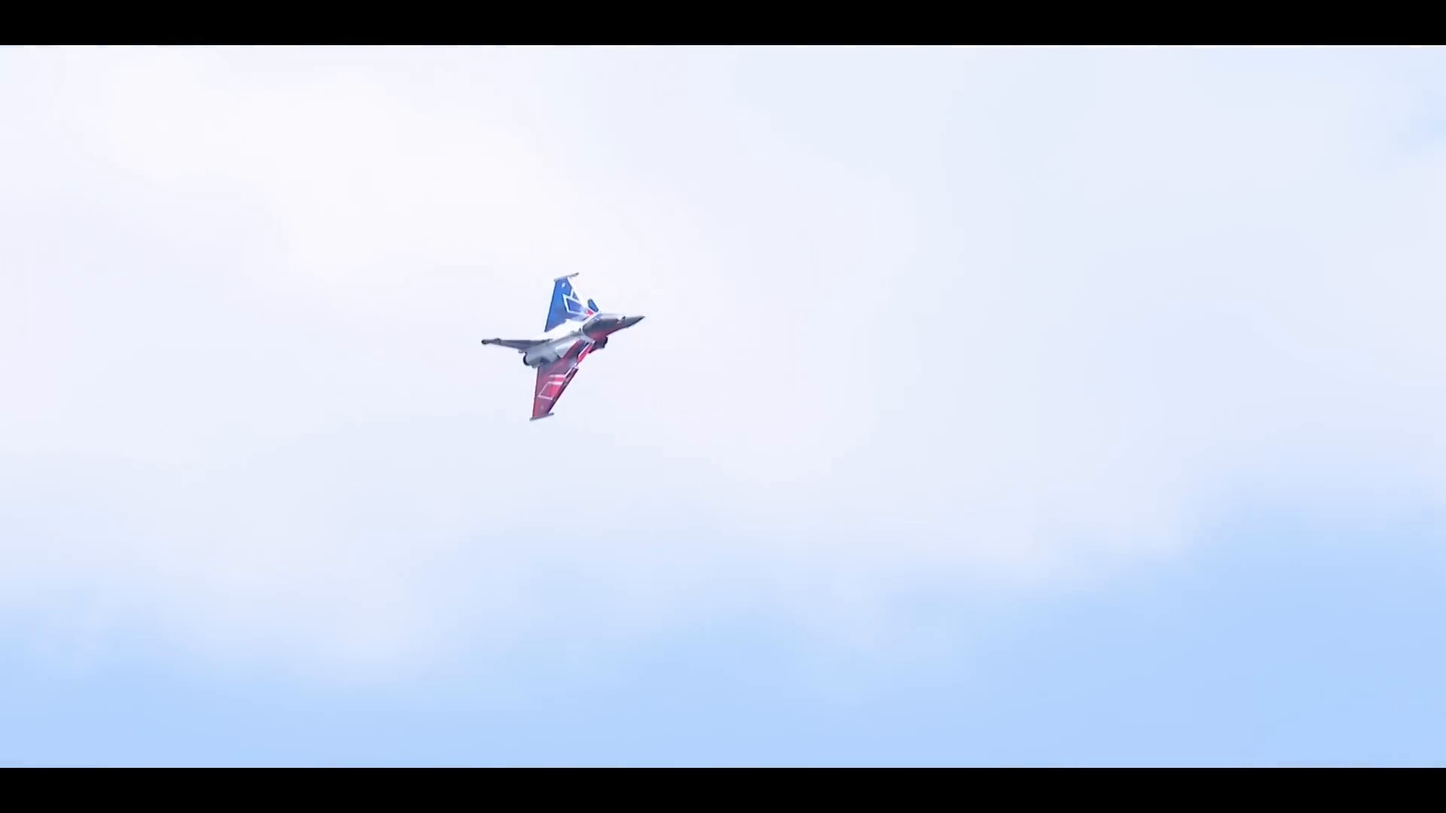Rafale: (476, 258, 650, 425)
